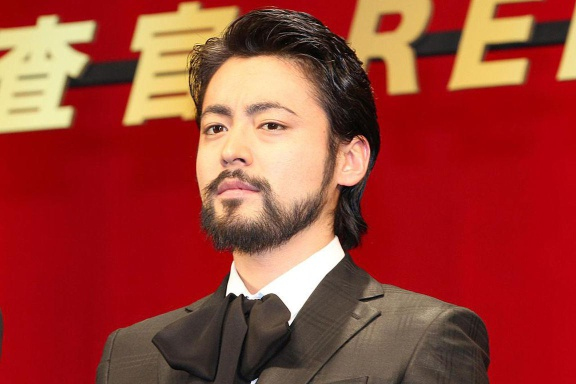male: (172, 5, 390, 263)
